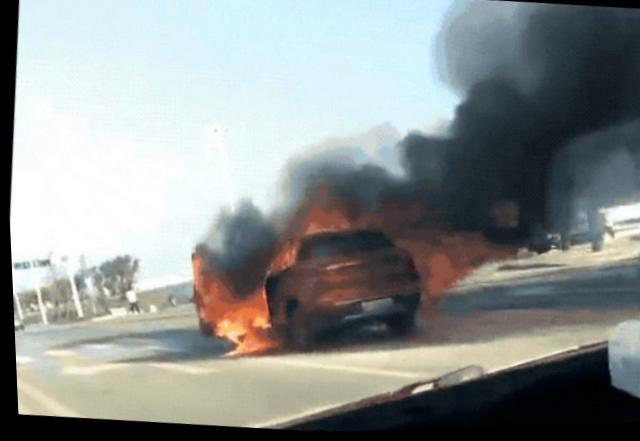fire: (168, 179, 475, 372)
